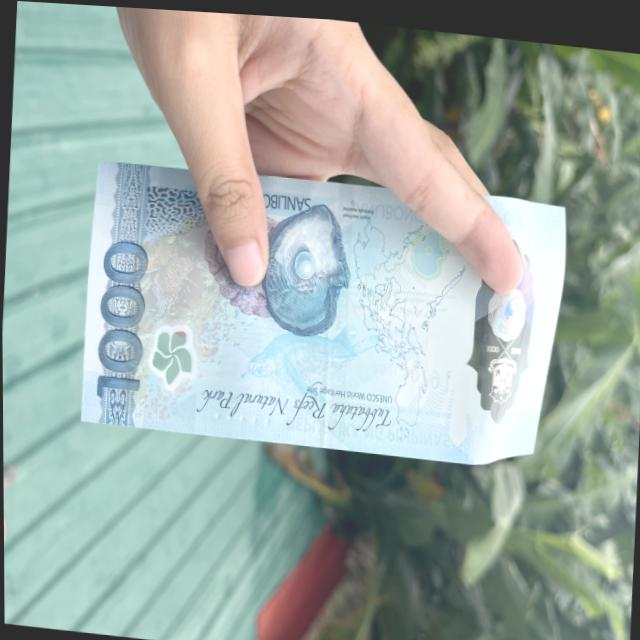clear_window: (455, 185, 545, 465)
sampaguita: (148, 317, 200, 391)
security_thread: (321, 175, 357, 447)
